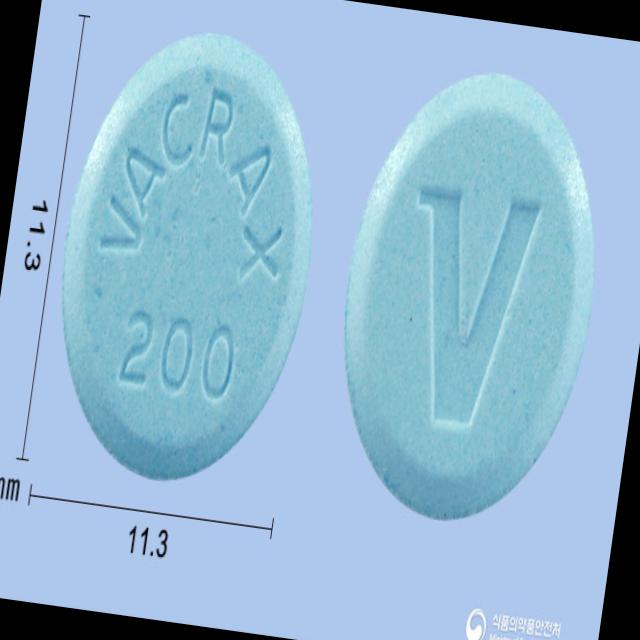Vacrax Tab: (316, 54, 624, 536), (34, 15, 342, 496)
